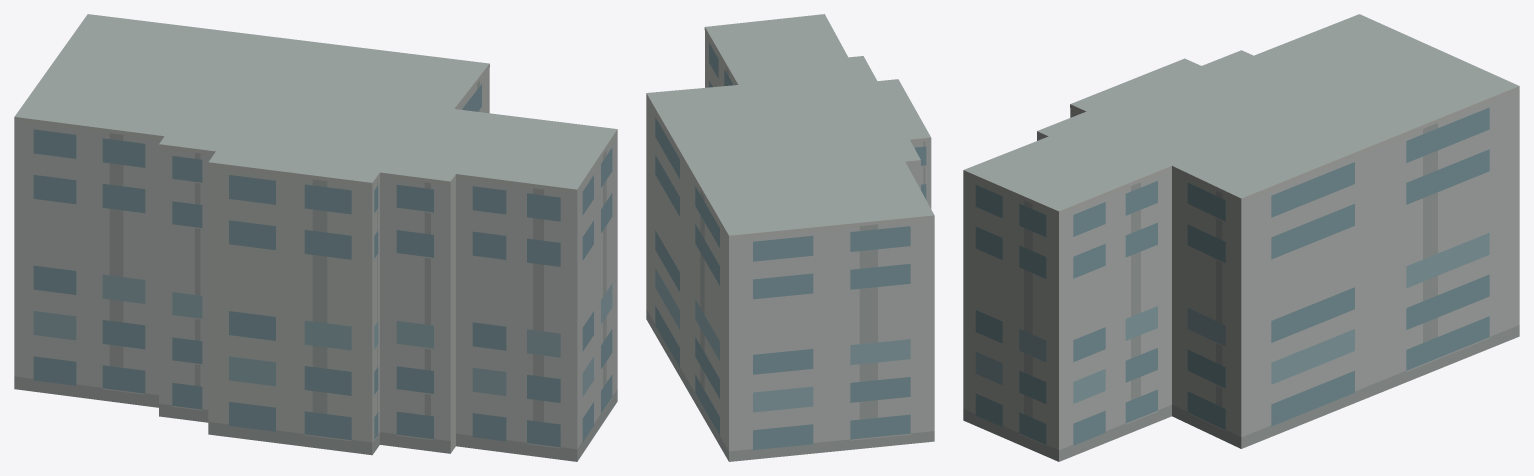
Rendered from survey-upis-32891088.glb.
3 renders of one model, left to right at view 1: azimuth 30°, elevation 25°; view 2: azimuth 150°, elevation 25°; view 3: azimuth 270°, elevation 25°, orthographic. The views are drawn at different scales.
Visible parts, largest first — view 1: survey-upis-32891088.tmp; view 2: survey-upis-32891088.tmp; view 3: survey-upis-32891088.tmp.
Boxes of the visible parts, x1,y1,x2,y2 form: survey-upis-32891088.tmp: [14, 14, 617, 461]; survey-upis-32891088.tmp: [646, 14, 934, 461]; survey-upis-32891088.tmp: [963, 14, 1519, 461].
Bounding box in the file's own units: 27.06 × 16 × 32.21.
